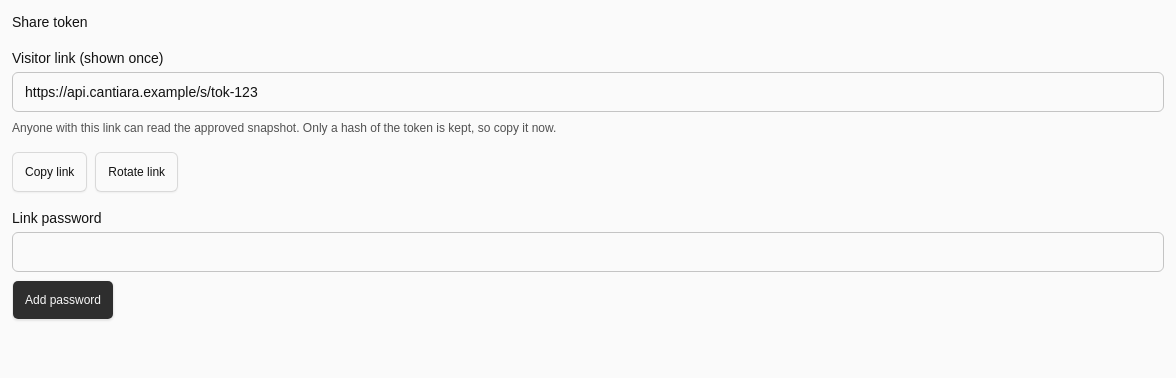
Scenario: Share access panel › shows the visitor link once, with a token-only path, and copies it
Check: the field with id "share-visitor-link" holds "https://api.cantiara.example/s/tok-123", box [12, 72, 1164, 112]
Click the button "Copy link": click(50, 172) [12, 152, 87, 192]
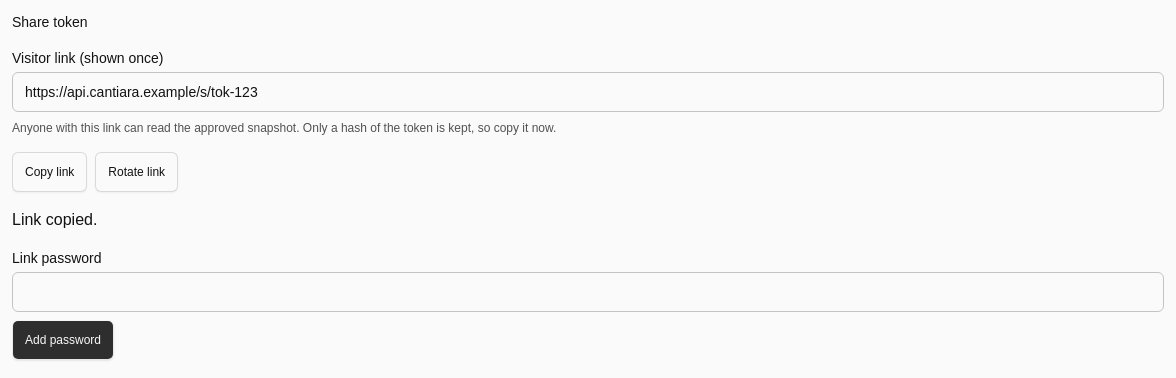
Check: the text "Link copied." is shown, box [12, 211, 97, 228]
